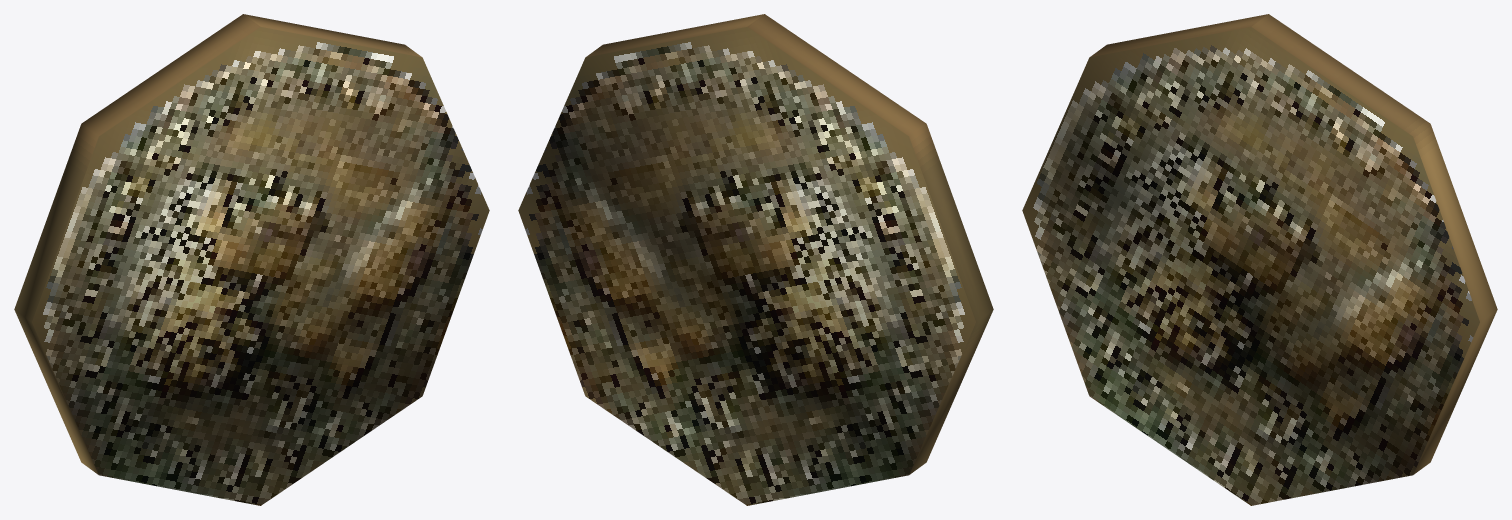
File: aventine_coins_dupondius.glb
The picture shows the model from 3 angles, left to right: view 1: azimuth 30°, elevation 25°; view 2: azimuth 150°, elevation 25°; view 3: azimuth 330°, elevation 25°; orthographic projection.
Parts seen in each view (by area): view 1: coin_01_dupondius; view 2: coin_01_dupondius; view 3: coin_01_dupondius.
Boxes of the visible parts, x1,y1,x2,y2 form: coin_01_dupondius: [14, 14, 489, 505]; coin_01_dupondius: [518, 14, 993, 505]; coin_01_dupondius: [1022, 14, 1497, 505].
Bounding box in the file's own units: 0.4794 × 0.4794 × 0.0318.
1 material, 1 textured.
